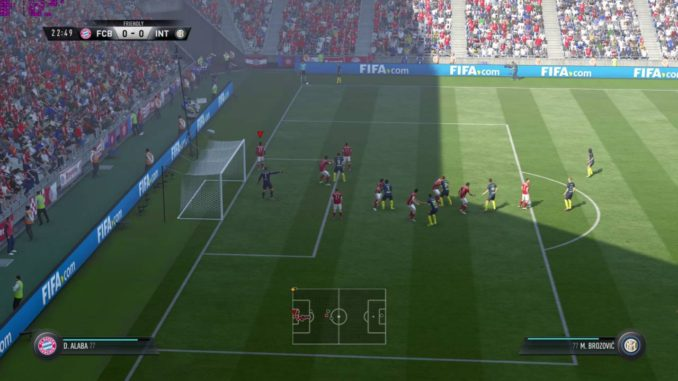goal: (161, 137, 246, 225), (305, 79, 312, 88)
player: (258, 165, 279, 197), (327, 186, 347, 218), (484, 176, 502, 211), (518, 176, 534, 211), (424, 194, 440, 227), (563, 175, 576, 209), (333, 152, 347, 181), (458, 180, 470, 212), (585, 146, 598, 175), (442, 175, 455, 203), (406, 186, 417, 219), (255, 143, 269, 168), (319, 153, 330, 181), (334, 61, 346, 84), (384, 181, 393, 210), (374, 178, 381, 211), (434, 174, 441, 204), (344, 145, 353, 167)
